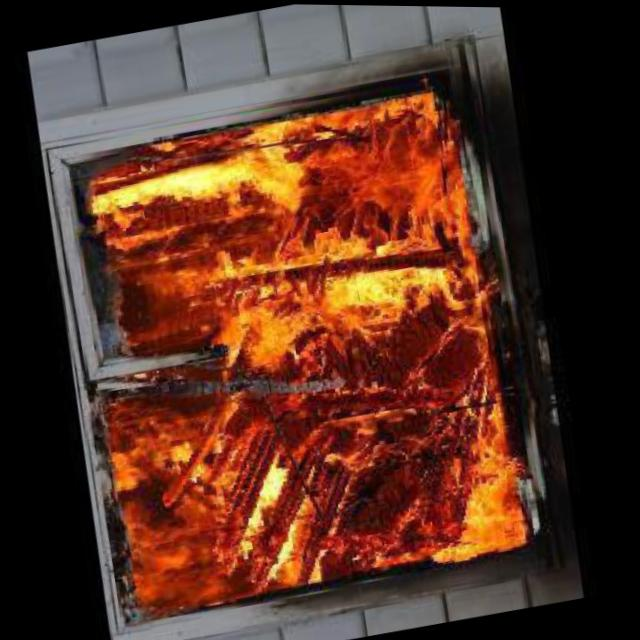Fire: (47, 72, 564, 630)
